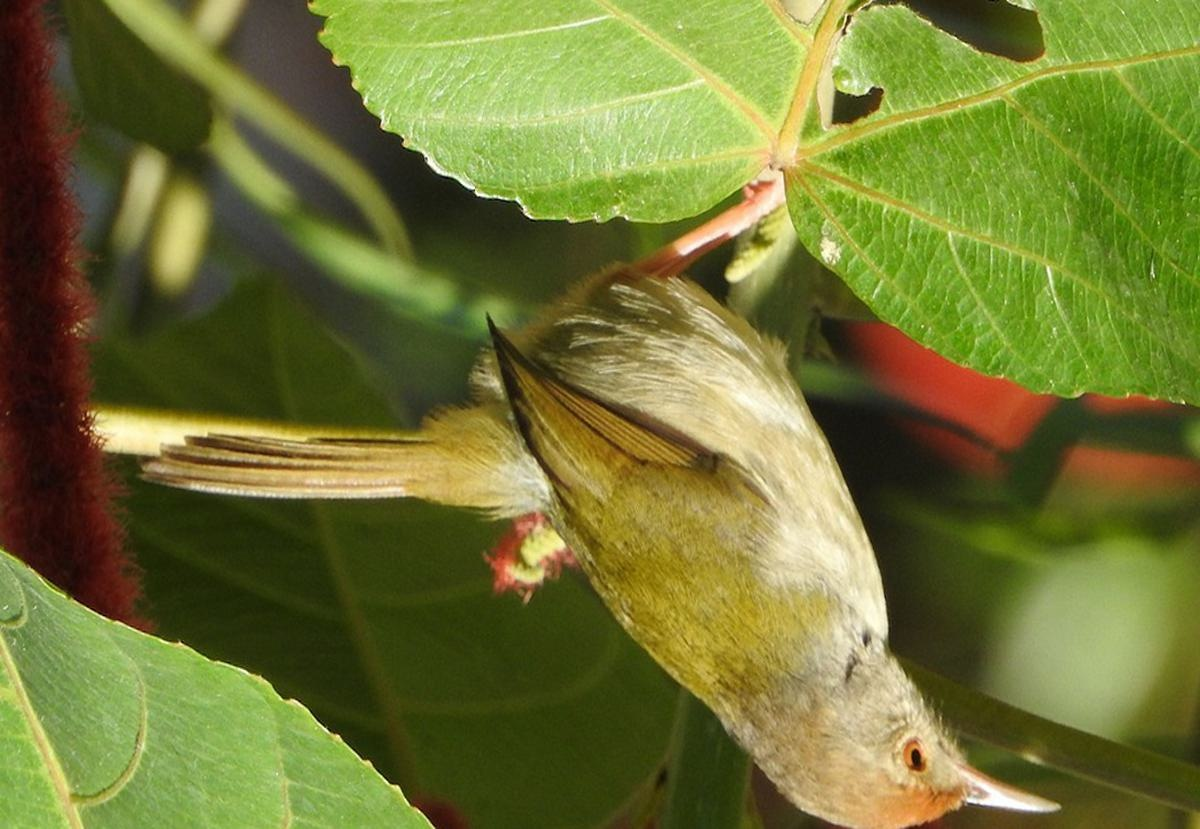tailorbird: (139, 212, 1047, 829)
